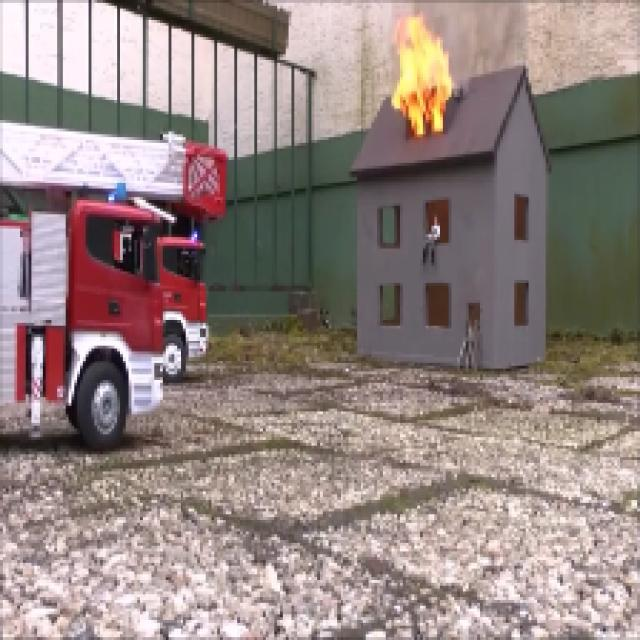fire: (386, 6, 452, 142)
